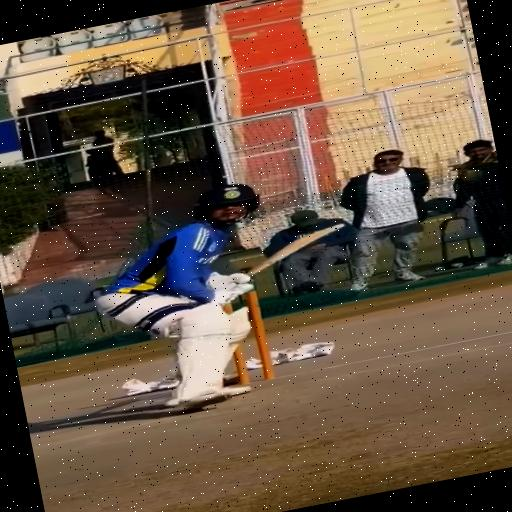Cricket bat: (249, 224, 343, 275)
